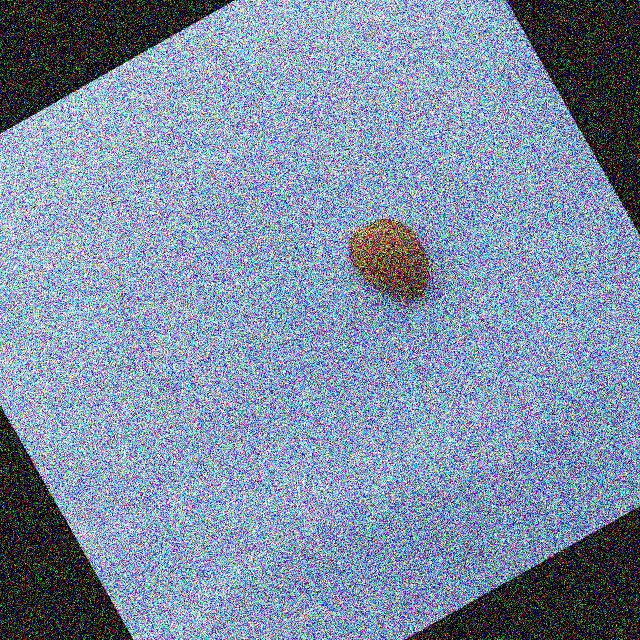grade2: (332, 201, 449, 324)
